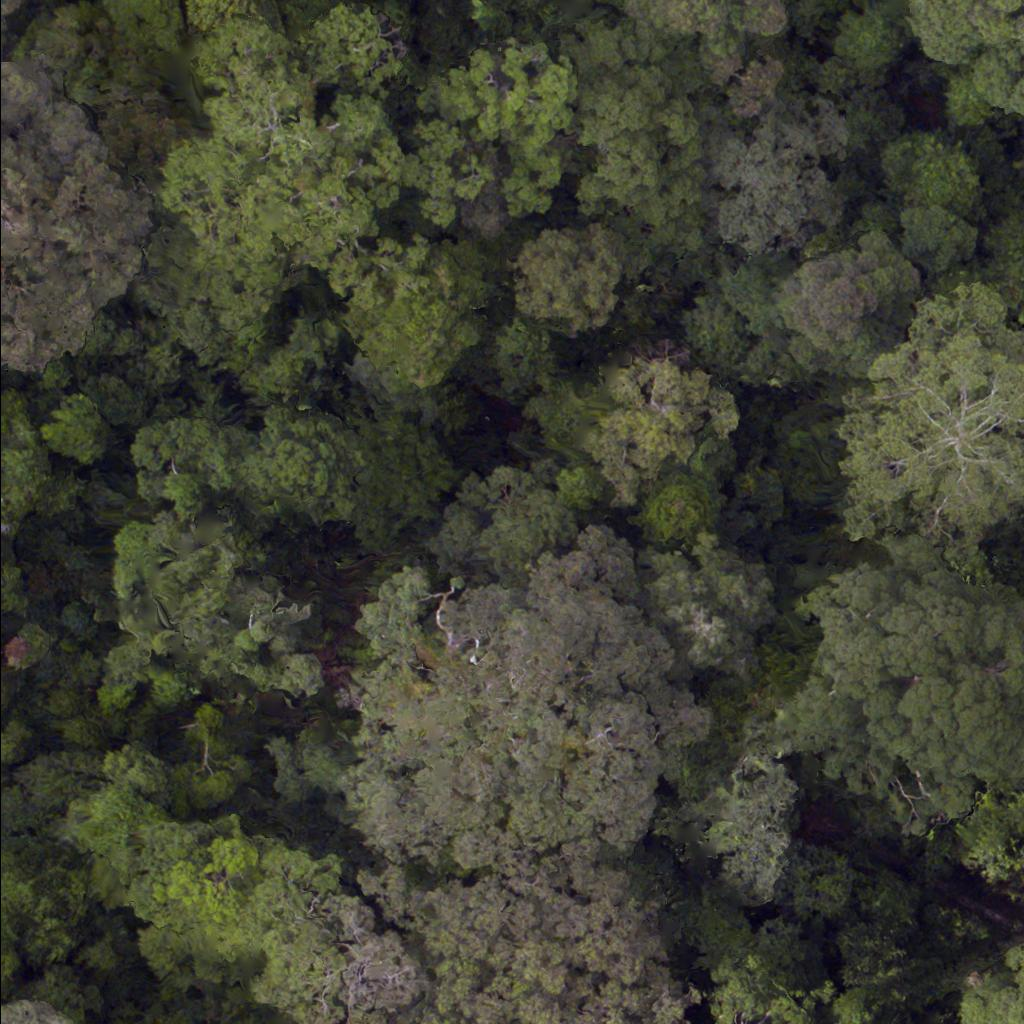crown: (341, 555, 704, 870), (776, 537, 1023, 829), (159, 31, 404, 295), (360, 858, 701, 1023), (847, 298, 1023, 548), (108, 517, 322, 705), (112, 817, 342, 977), (569, 33, 693, 265), (320, 232, 490, 386), (575, 351, 738, 508), (414, 47, 568, 213), (256, 891, 425, 1023), (665, 740, 797, 903), (714, 106, 847, 254), (773, 239, 910, 371), (431, 468, 577, 590), (643, 551, 781, 677), (236, 407, 368, 523), (683, 265, 802, 385), (130, 416, 245, 511), (715, 956, 877, 1023), (517, 231, 623, 325), (0, 388, 55, 524), (638, 469, 727, 548), (884, 138, 981, 205), (902, 210, 974, 269), (965, 954, 1023, 1023), (0, 531, 26, 617), (0, 1000, 70, 1023)
